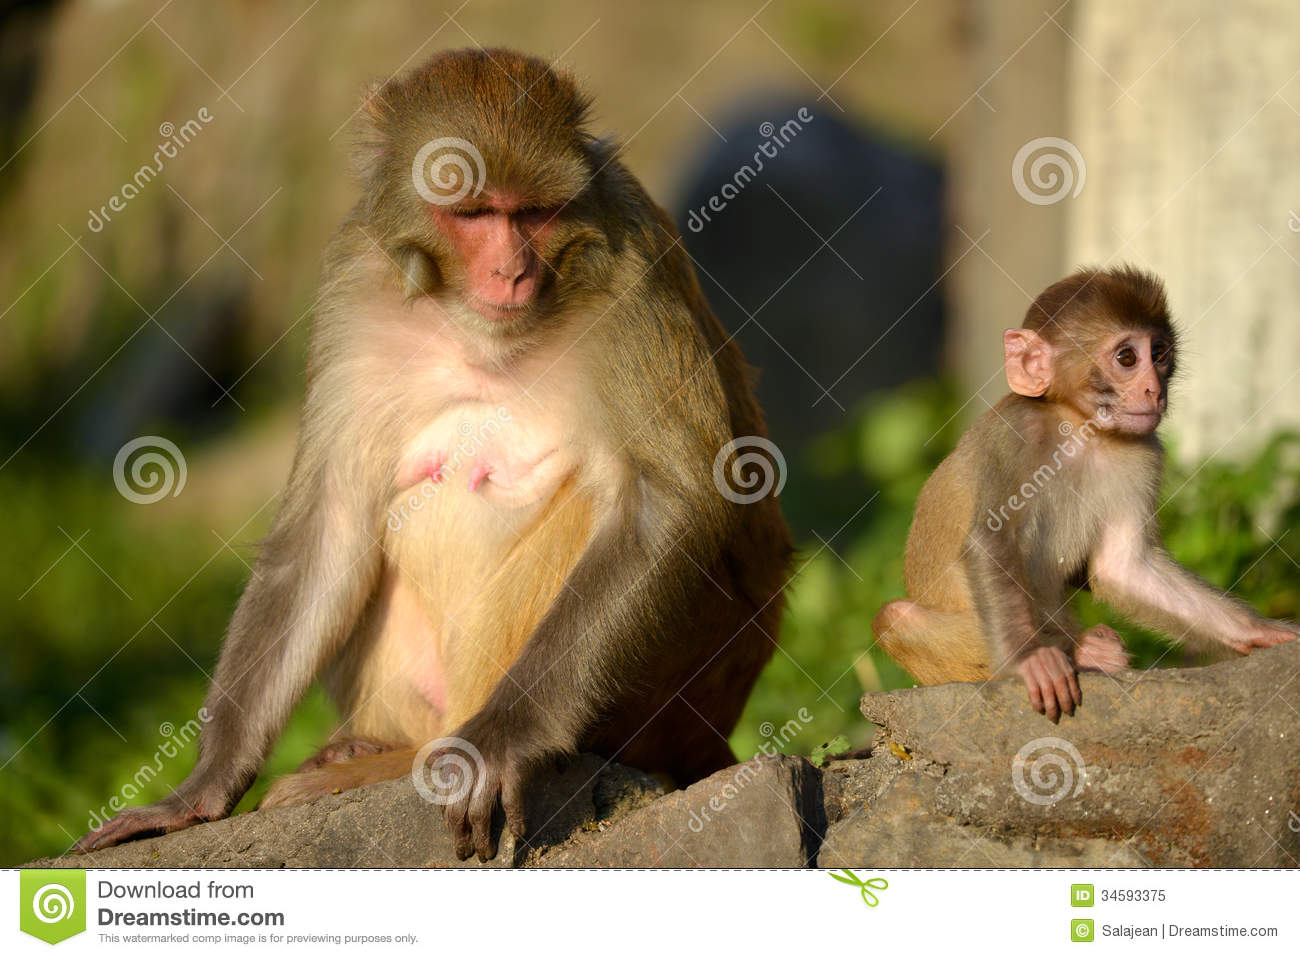monkey: (72, 22, 801, 857), (860, 240, 1297, 746)
